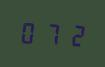seven: (41, 19, 62, 47)
two: (63, 20, 84, 48)
zero: (18, 18, 39, 46)
